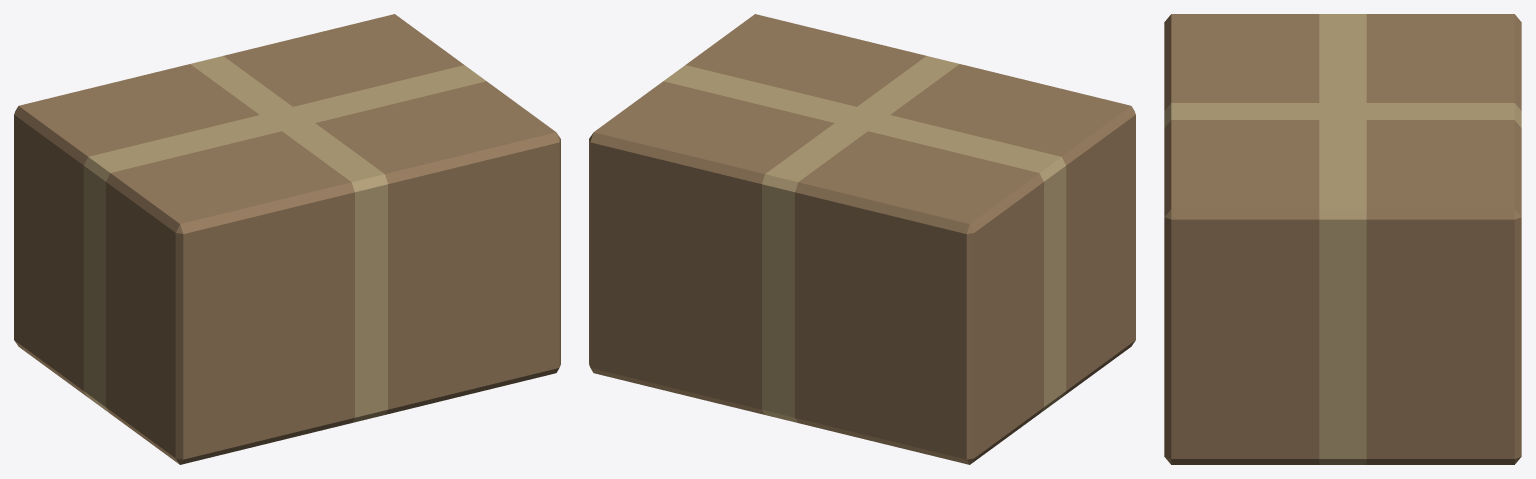
File: Scatolone_4.fbx
3 renders of one model, left to right at view 1: azimuth 30°, elevation 25°; view 2: azimuth 150°, elevation 25°; view 3: azimuth 270°, elevation 25°, orthographic. The views are drawn at different scales.
Visible parts, largest first — view 1: Scatolone_4; view 2: Scatolone_4; view 3: Scatolone_4.
Part boxes in pixels (box(x1,y1,x2,y2)): Scatolone_4: box(14, 14, 560, 464); Scatolone_4: box(589, 14, 1135, 464); Scatolone_4: box(1164, 14, 1521, 464).
Bounding box in the file's own units: 0.9985 × 0.5966 × 0.7546.
